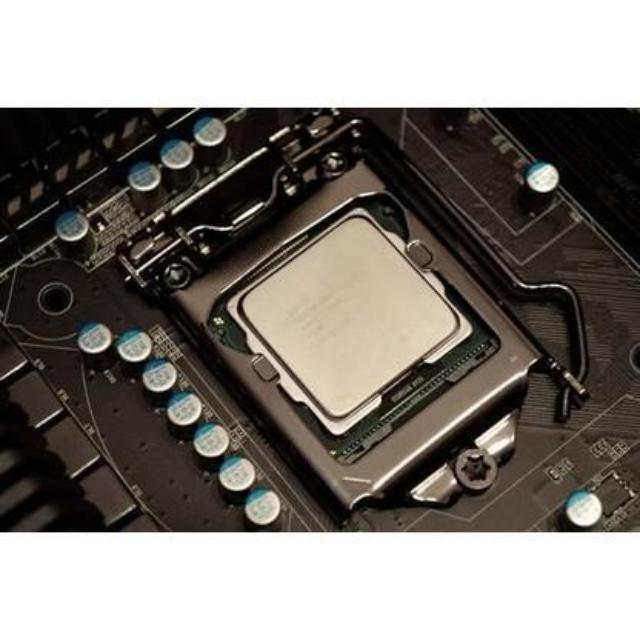CPU: (222, 212, 468, 434)
